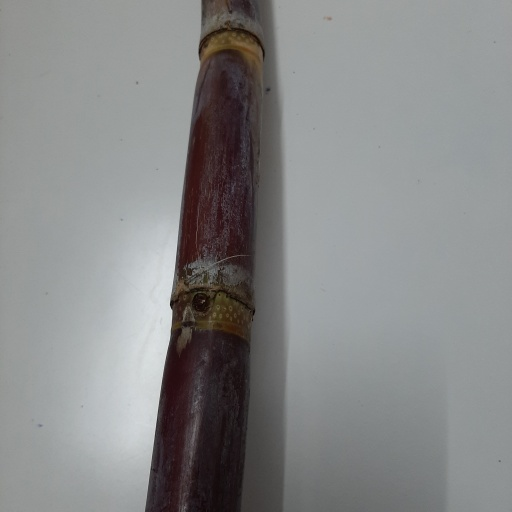Damage_Bud: (190, 294, 211, 314)
